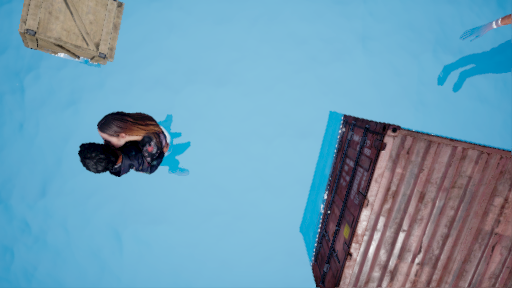person: (73, 106, 189, 182)
